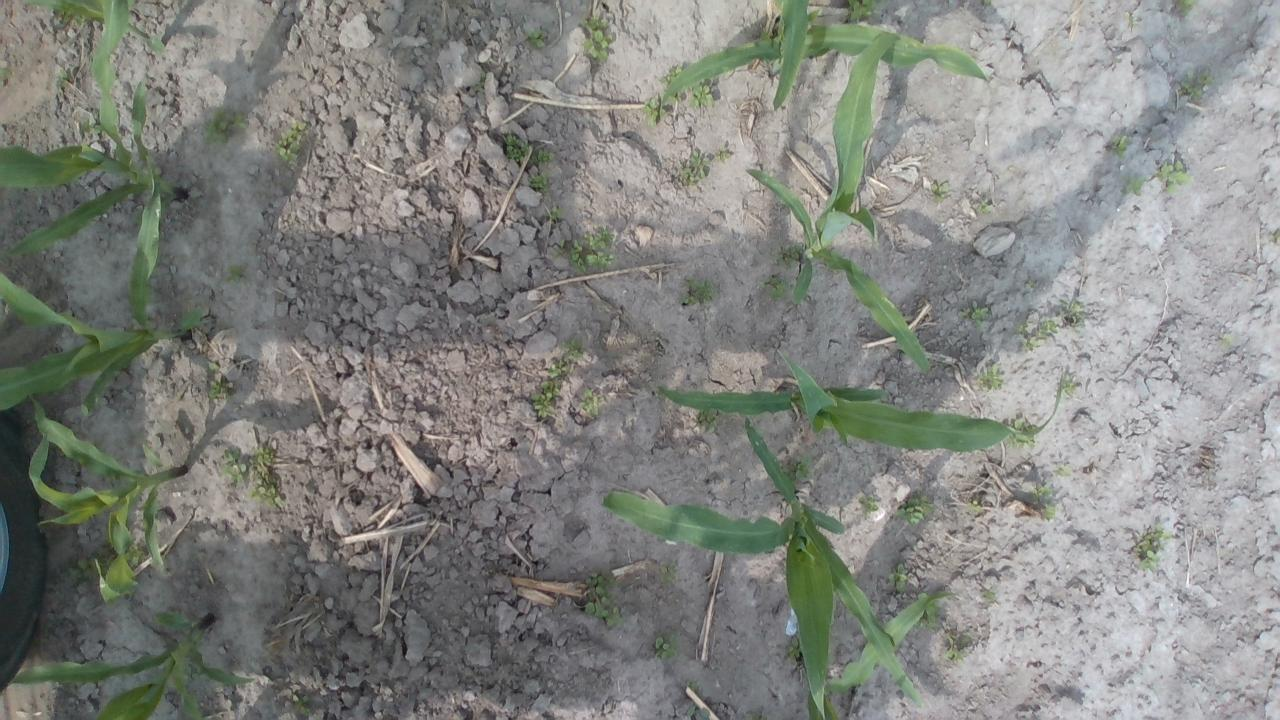Maize: (602, 413, 923, 720), (748, 25, 932, 376), (0, 154, 209, 418), (0, 0, 189, 262), (659, 0, 996, 115), (653, 360, 1065, 452), (21, 394, 188, 600), (0, 608, 259, 720), (796, 586, 958, 720), (20, 0, 169, 56), (767, 0, 813, 109)
Weeds: (581, 570, 624, 628), (568, 223, 614, 273), (530, 358, 566, 418), (1129, 523, 1171, 574), (248, 446, 282, 506), (579, 13, 614, 62), (204, 108, 247, 144), (276, 118, 307, 166), (1016, 318, 1058, 352), (70, 547, 112, 581), (899, 489, 934, 525), (1177, 69, 1214, 101), (1158, 158, 1190, 195), (220, 446, 247, 485), (680, 276, 716, 304), (682, 150, 710, 186), (914, 591, 940, 629), (642, 91, 668, 127), (940, 632, 970, 663), (1006, 417, 1034, 448), (958, 300, 989, 328), (1057, 298, 1085, 328), (578, 387, 605, 416), (978, 362, 1004, 392), (773, 242, 803, 268), (782, 455, 811, 481), (502, 133, 528, 162), (653, 632, 679, 660), (844, 0, 879, 20), (690, 79, 714, 108), (762, 274, 788, 300), (208, 378, 234, 402), (659, 63, 686, 86), (888, 562, 908, 592), (58, 8, 90, 26), (1122, 173, 1146, 197), (290, 692, 314, 716), (124, 542, 146, 568), (695, 408, 720, 430), (858, 492, 879, 516), (79, 118, 105, 137), (930, 180, 950, 204), (1058, 374, 1078, 398), (560, 338, 584, 358), (528, 172, 550, 193), (658, 562, 678, 584), (1110, 134, 1128, 158), (525, 28, 546, 48), (530, 148, 556, 164), (1028, 484, 1051, 501), (544, 204, 566, 221), (224, 264, 244, 282), (787, 636, 802, 660), (470, 71, 486, 93), (686, 706, 711, 720), (56, 67, 72, 88), (1176, 0, 1198, 15), (553, 238, 568, 260), (1124, 10, 1140, 30), (183, 664, 200, 682), (979, 588, 998, 604), (976, 199, 993, 216), (1043, 502, 1057, 521), (714, 144, 730, 160), (967, 499, 984, 514), (1056, 464, 1073, 478), (1218, 334, 1235, 348), (747, 711, 769, 720), (668, 91, 682, 104), (1268, 228, 1280, 243), (0, 67, 11, 81), (686, 677, 697, 691), (208, 360, 219, 372), (980, 0, 993, 6)
